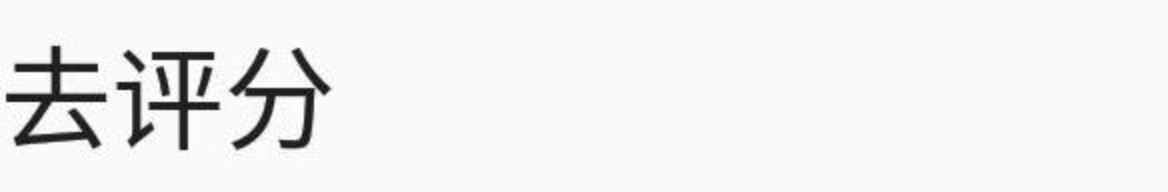TextView: (1, 1, 1167, 191)
